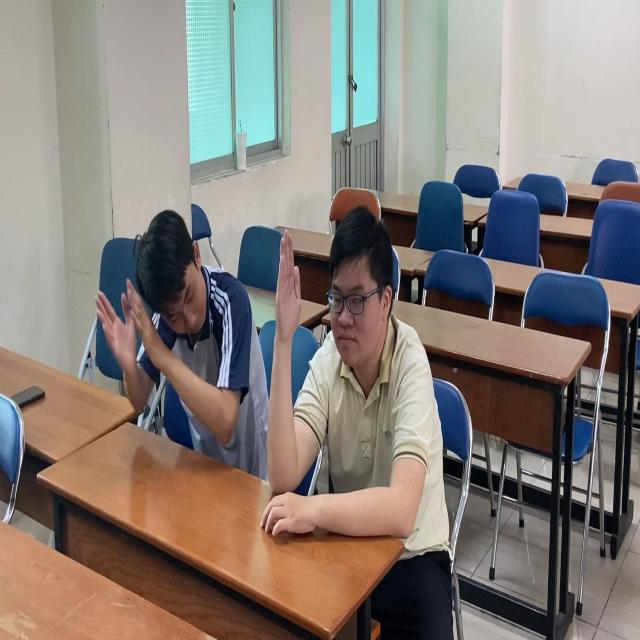raise_hand: (263, 205, 457, 560)
